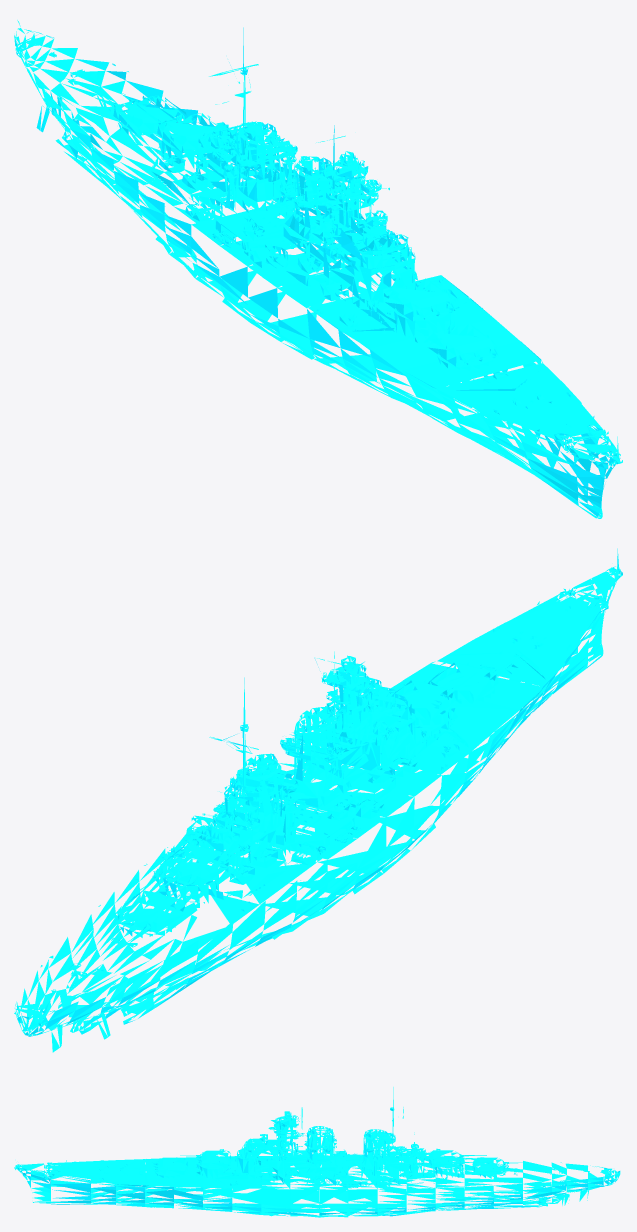
The model's file is PGSB599.glb.
3 renders of one model, top to bottom at view 1: azimuth 30°, elevation 25°; view 2: azimuth 150°, elevation 25°; view 3: azimuth 270°, elevation 25°, orthographic. The views are drawn at different scales.
Visible parts, largest first — view 1: hull_mid, hull_bow, hull_stern, main_battery, secondary_battery, superstructure; view 2: hull_mid, hull_bow, hull_stern, main_battery, secondary_battery, superstructure; view 3: hull_mid, hull_bow, hull_stern, main_battery, secondary_battery, superstructure.
Boxes of the visible parts, x1=… form: hull_mid: x1=90, y1=27, x2=519, y2=421; hull_bow: x1=402, y1=341, x2=622, y2=518; hull_stern: x1=14, y1=20, x2=197, y2=185; main_battery: x1=92, y1=88, x2=498, y2=379; secondary_battery: x1=159, y1=140, x2=420, y2=301; superstructure: x1=203, y1=122, x2=387, y2=237; hull_mid: x1=93, y1=651, x2=519, y2=989; hull_bow: x1=402, y1=548, x2=622, y2=761; hull_stern: x1=14, y1=914, x2=198, y2=1052; main_battery: x1=114, y1=655, x2=519, y2=945; secondary_battery: x1=159, y1=747, x2=420, y2=884; superstructure: x1=202, y1=655, x2=388, y2=826; hull_mid: x1=155, y1=1087, x2=506, y2=1217; hull_bow: x1=14, y1=1158, x2=173, y2=1208; hull_stern: x1=493, y1=1161, x2=620, y2=1208; main_battery: x1=130, y1=1148, x2=530, y2=1175; secondary_battery: x1=252, y1=1149, x2=436, y2=1186; superstructure: x1=260, y1=1111, x2=418, y2=1160.
Bounding box in the file's own units: 2.46 × 4.12 × 18.59.
